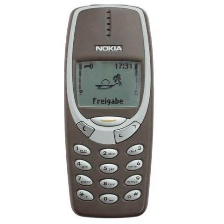phone: (62, 3, 155, 219)
